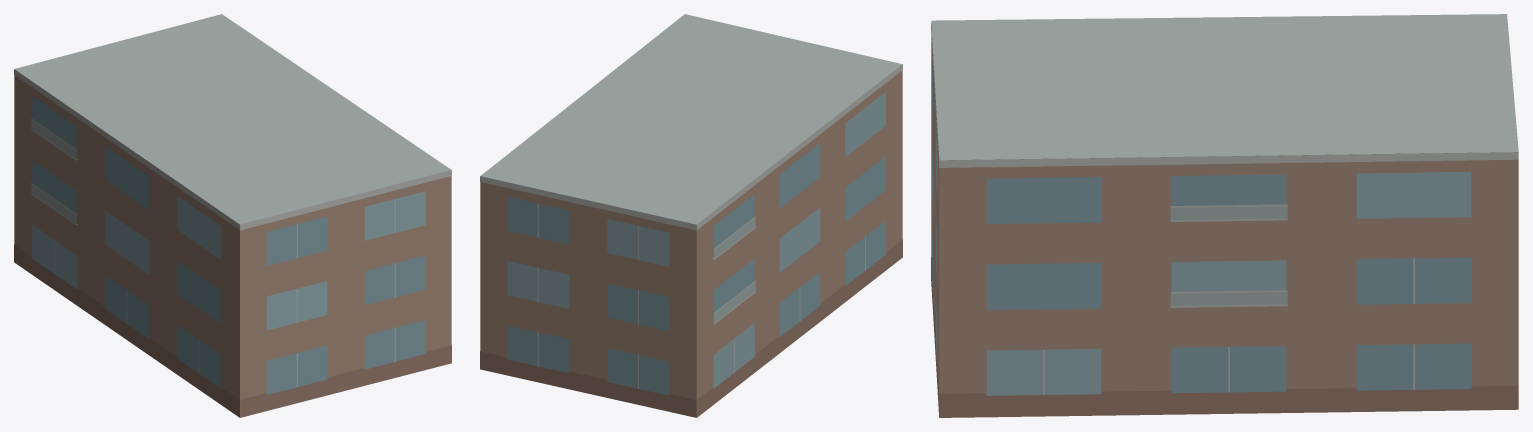
File: survey-upis-32456534.glb
The picture shows the model from 3 angles, left to right: view 1: azimuth 30°, elevation 25°; view 2: azimuth 150°, elevation 25°; view 3: azimuth 270°, elevation 25°; orthographic projection. The views are drawn at different scales.
Visible parts, largest first — view 1: survey-upis-32456534.tmp; view 2: survey-upis-32456534.tmp; view 3: survey-upis-32456534.tmp.
Part boxes in pixels (bbox=[...]): survey-upis-32456534.tmp: bbox=[14, 14, 451, 417]; survey-upis-32456534.tmp: bbox=[480, 14, 902, 417]; survey-upis-32456534.tmp: bbox=[931, 14, 1518, 417].
Bounding box in the file's own units: 9.96 × 8.17 × 16.9.
